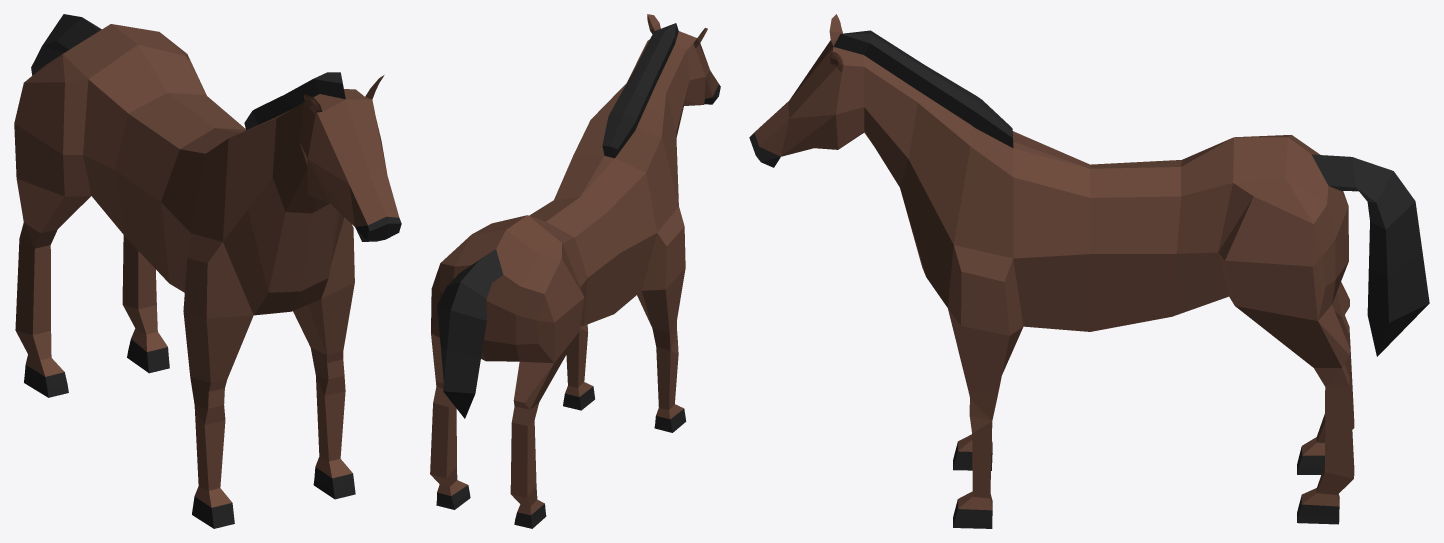
File: Creature_warhorse.glb
The picture shows the model from 3 angles, left to right: view 1: azimuth 30°, elevation 25°; view 2: azimuth 150°, elevation 25°; view 3: azimuth 270°, elevation 25°; orthographic projection. The views are drawn at different scales.
Visible parts, largest first — view 1: Horse_Cylinder; view 2: Horse_Cylinder; view 3: Horse_Cylinder.
Part boxes in pixels (x1=…): Horse_Cylinder: x1=14, y1=14, x2=401, y2=528; Horse_Cylinder: x1=430, y1=14, x2=720, y2=528; Horse_Cylinder: x1=749, y1=14, x2=1429, y2=528.
Size of the model in its own units: 2.56 by 6.91 by 9.24.
